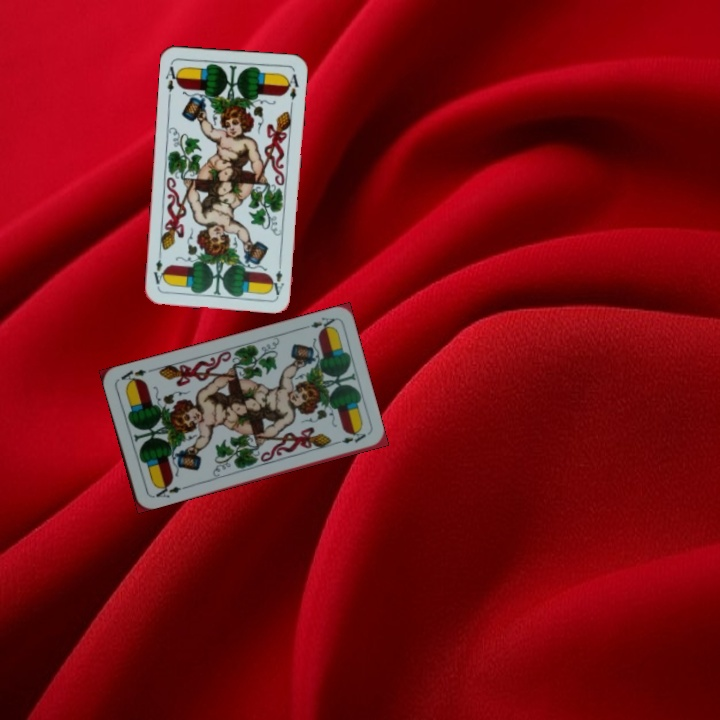EA: (148, 479, 188, 500), (162, 60, 182, 101), (298, 313, 337, 334), (268, 257, 286, 298)
